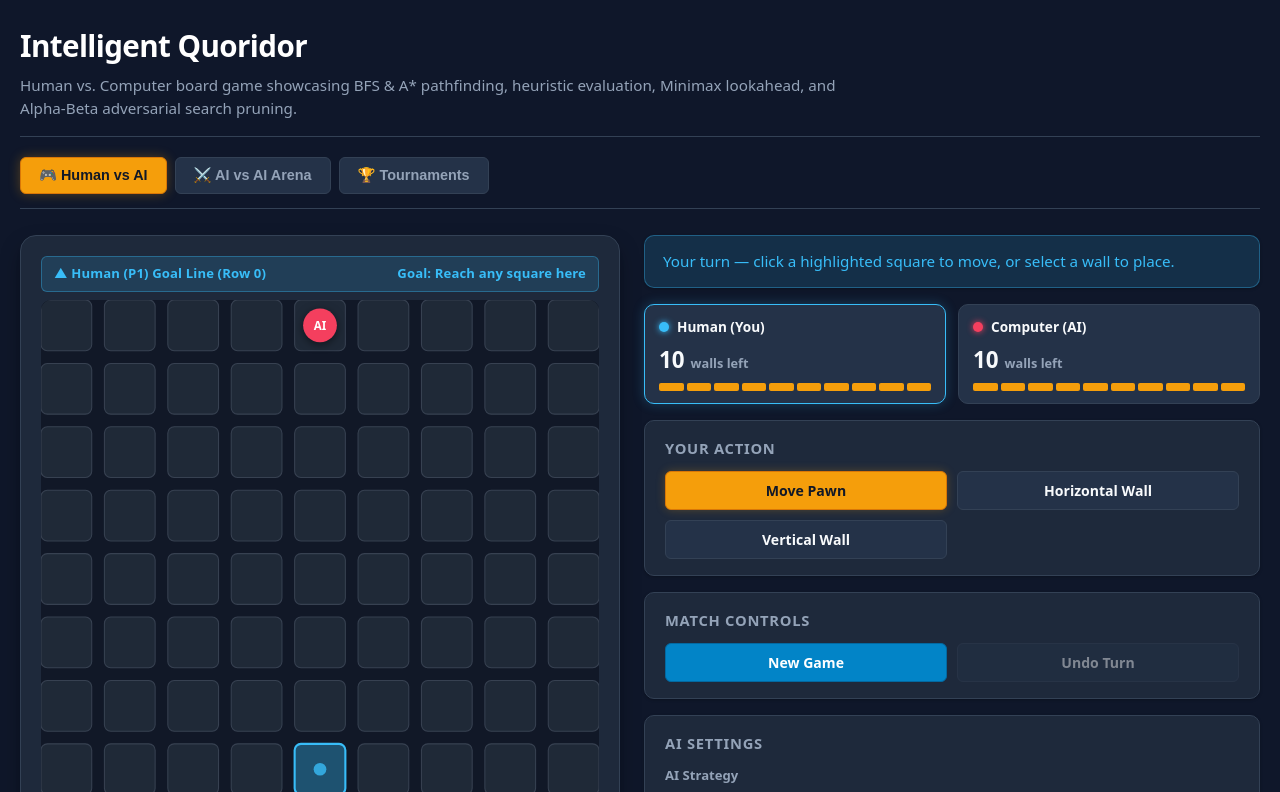
Test: UI Integration & Accessibility › allows switching to wall placement mode and cancelling it
Click the button "Horizontal Wall": [1098, 490] box [957,471,1239,510]
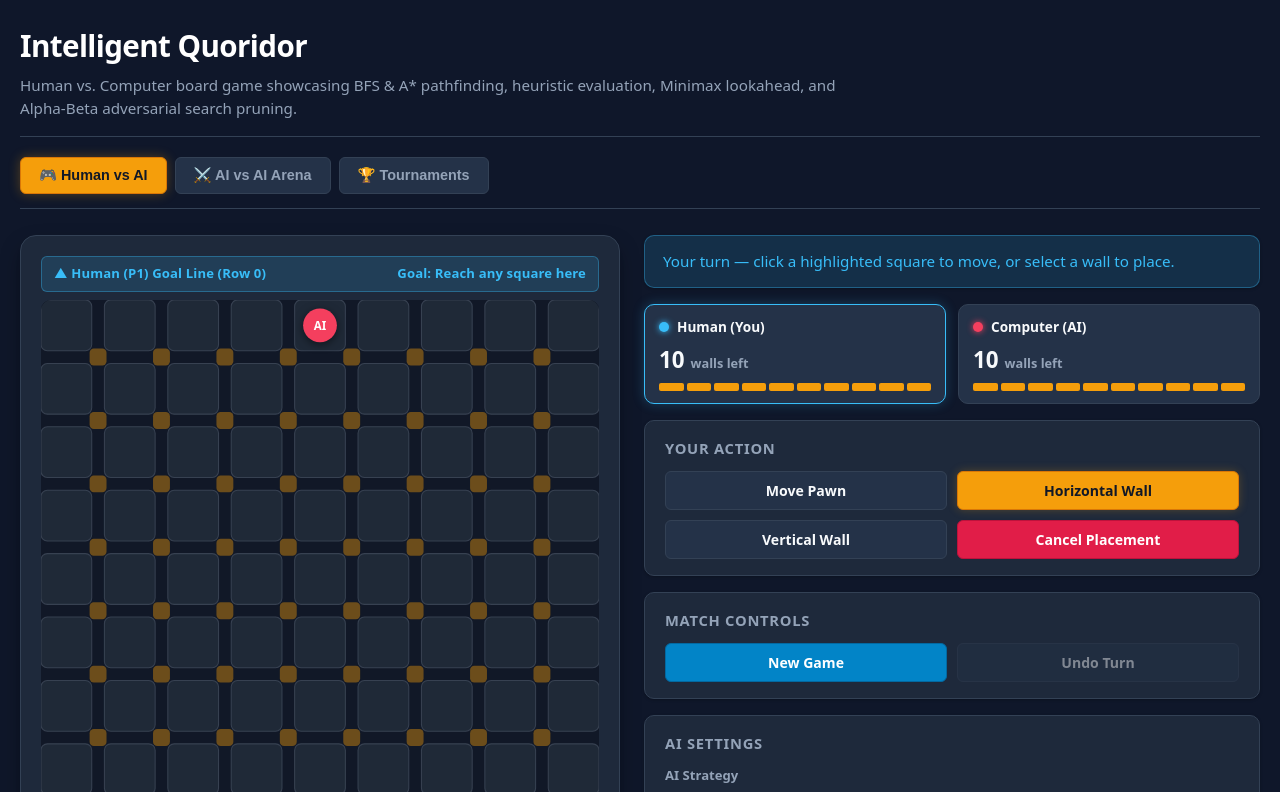
Expected: the button "Cancel Placement" is shown
Note: Clicking cancel reverts to pawn mode
Click the button "Cancel Placement": [1098, 539] box [957,520,1239,559]
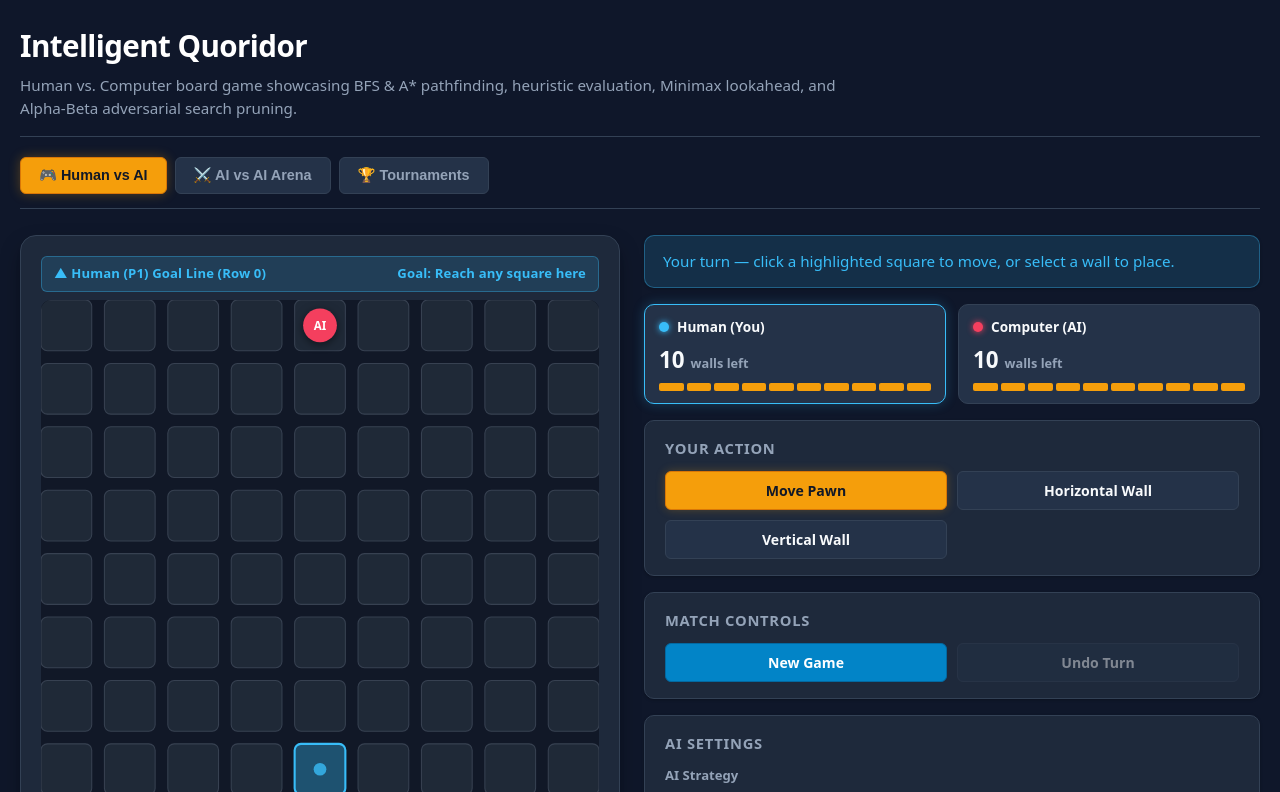
Expected: the button "Cancel Placement" is gone
